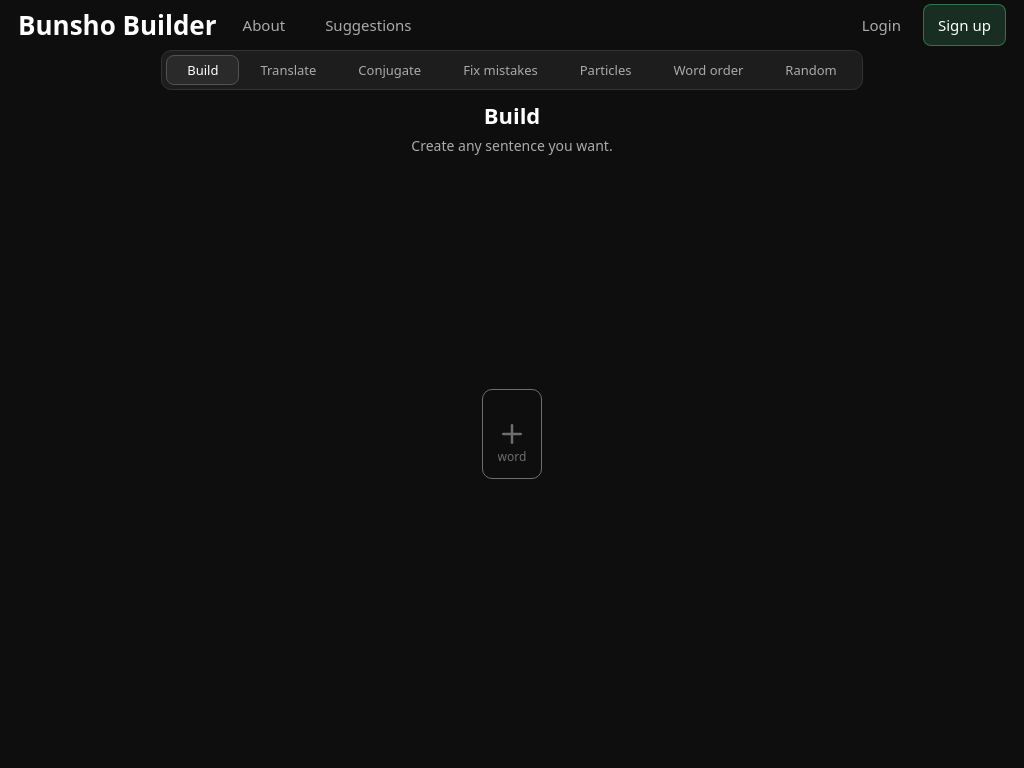
Scenario: opens a sign-up prompt in game history from the sentence builder when logged out
This screenshot has width=1024, height=768.
expect the button "History" is not shown: met
Click the tab "Translate": (288, 70) [239,55,337,85]
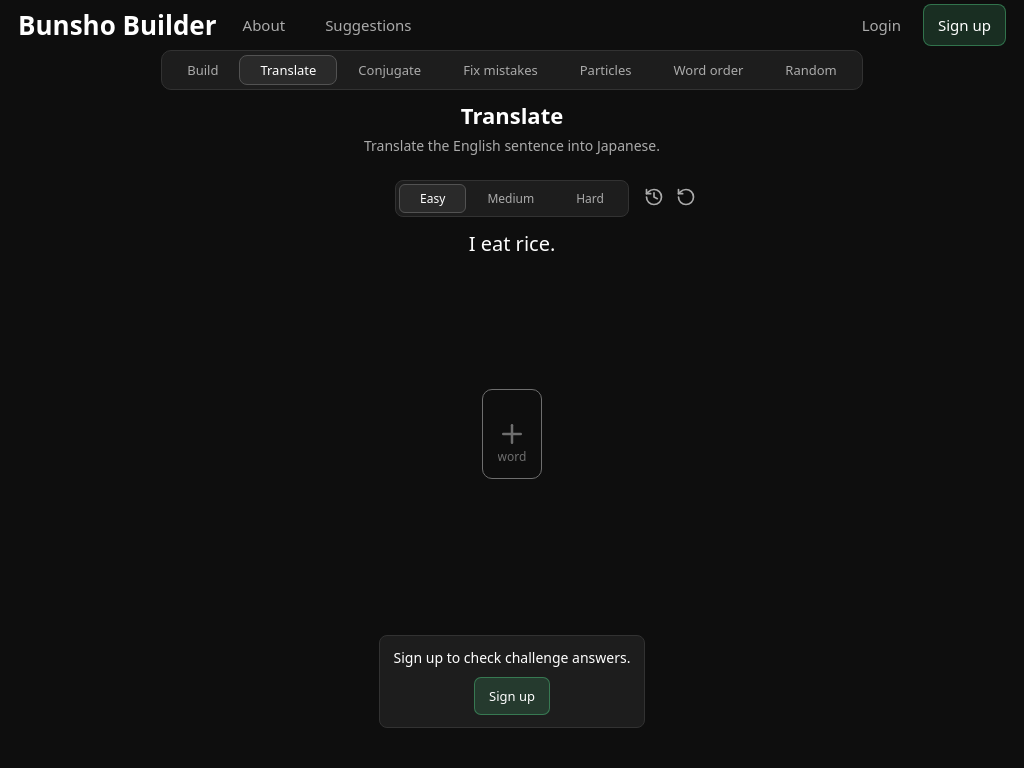
expect the text "I eat rice." is shown: met, box [469,230,555,256]
Click the button named "History": (654, 198) [638,186,670,212]
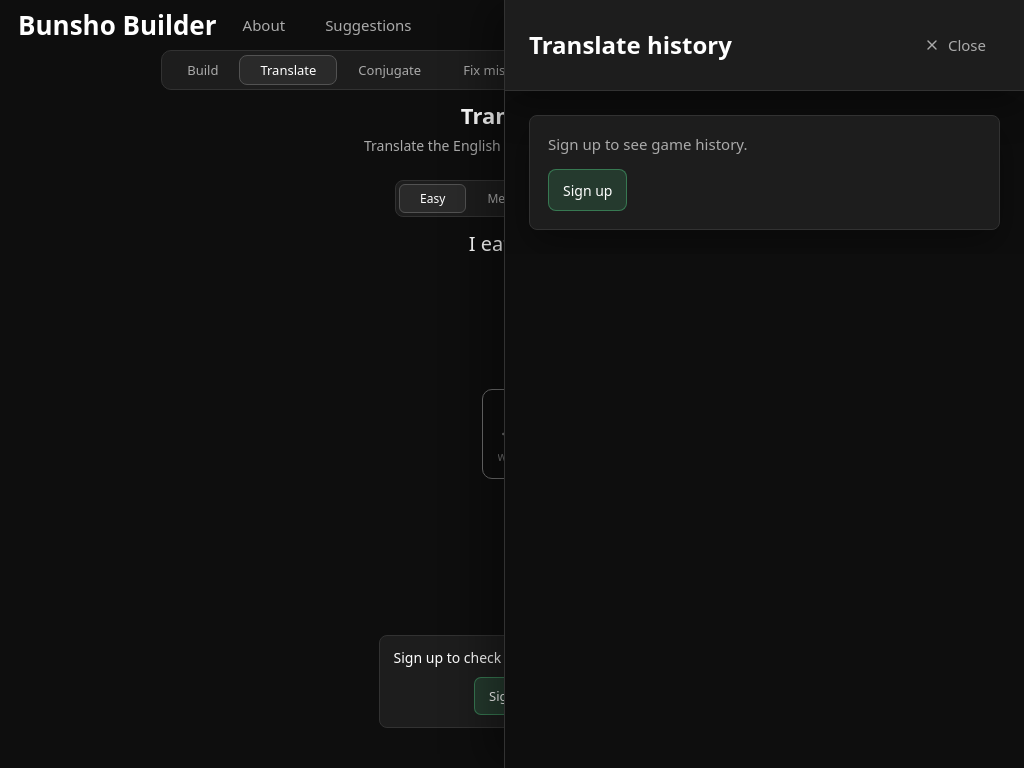
expect the heading "Translate history" is shown: met, box [529,31,732,59]
expect the text "Sign up to see game history." is shown: met, box [548,134,747,154]
